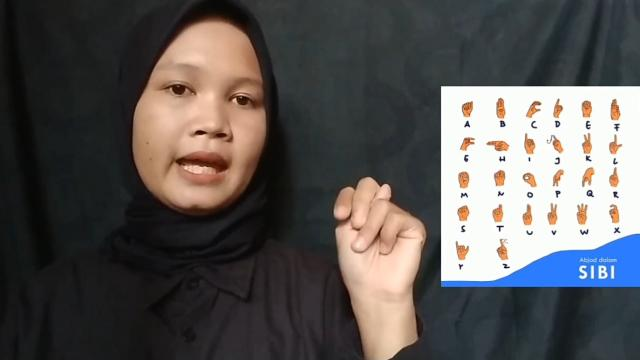N: (330, 176, 430, 298)
